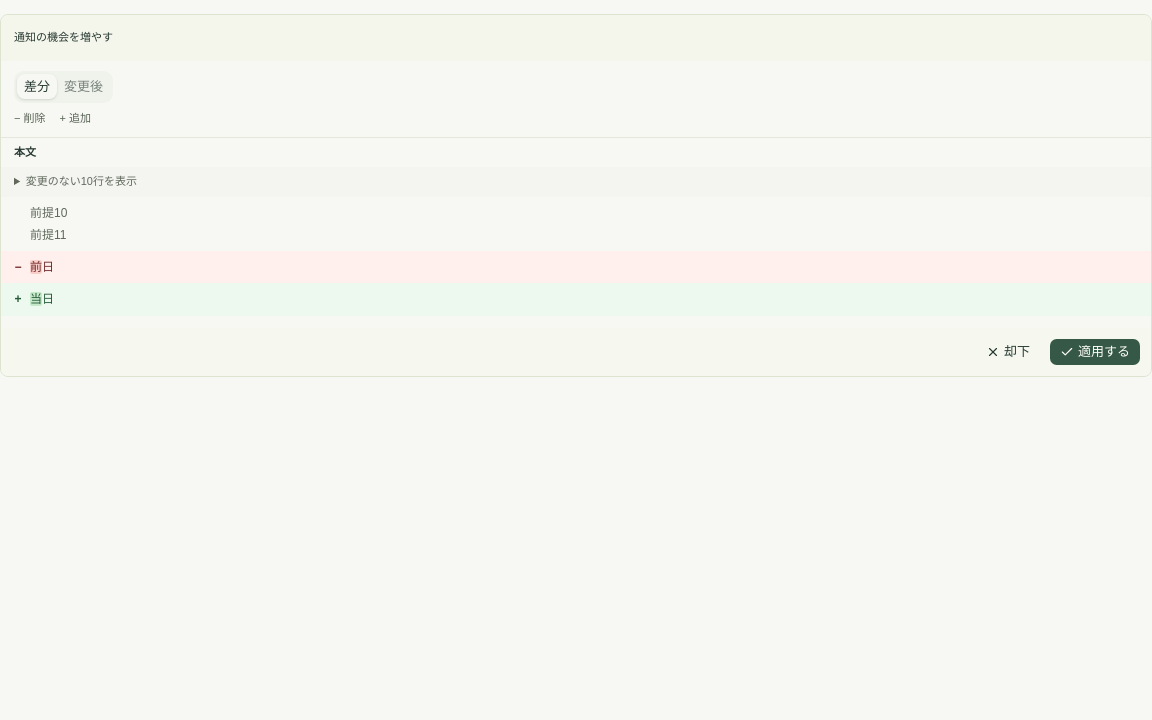
Scenario: collapses distant context, keeps nearby lines, and allows expansion
Check: the text "前提10 前提11" is shown, box [30,206,67,242]
Click the heading "変更のない10行を表示".
click(81, 181)  # box [1,167,1151,197]
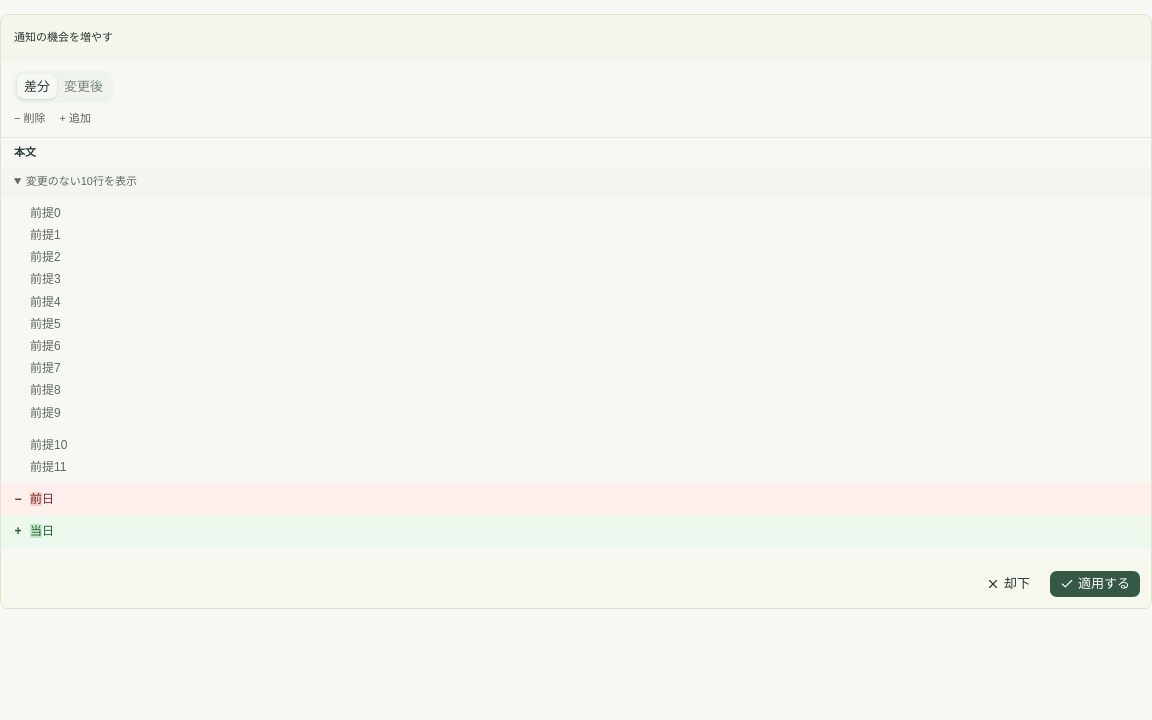
Check: the text "前提0 前提1 前提2 前提3 前提4 前提5 前提6 前提7 前提8 前提9" is shown, box [30,206,61,420]
